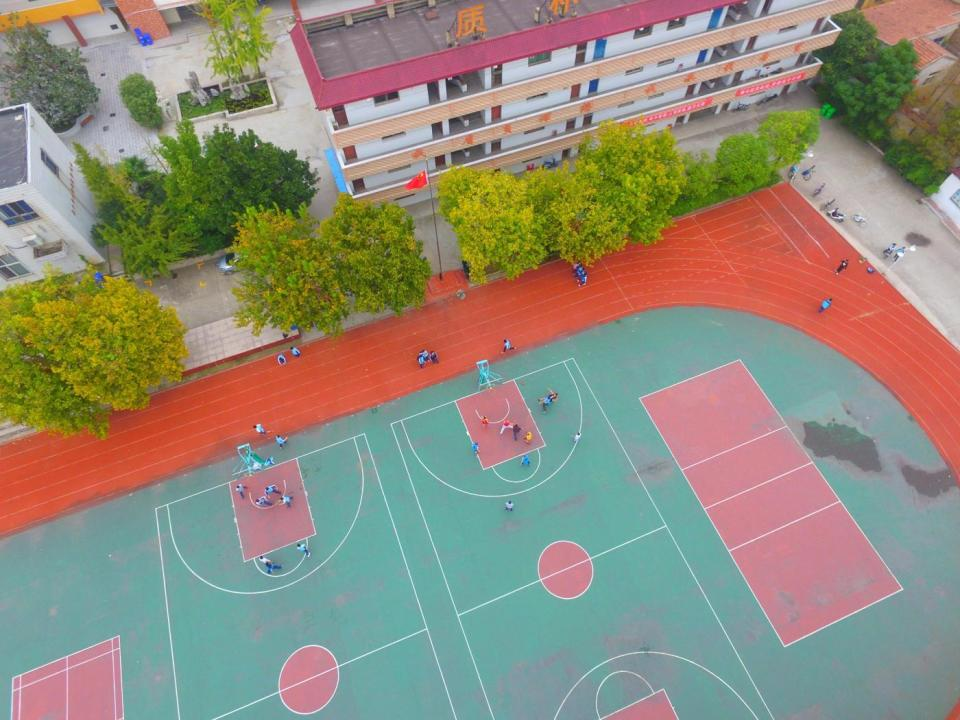car: (216, 249, 262, 274)
